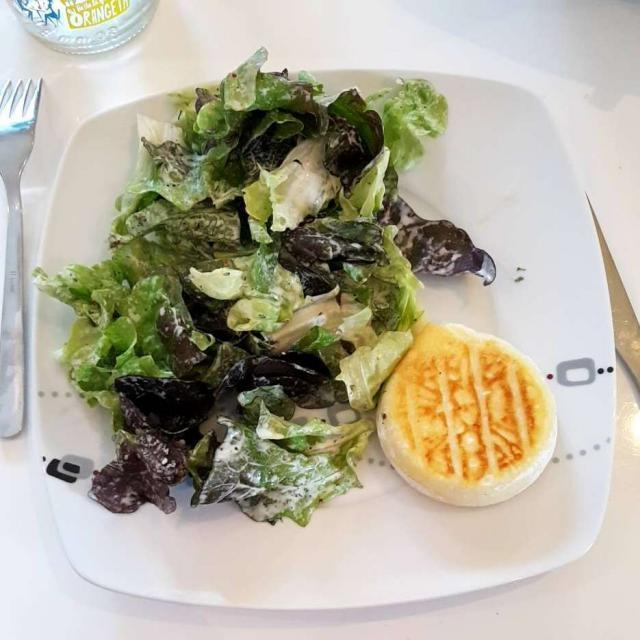salad: (42, 59, 473, 541)
tomme: (391, 324, 549, 497)
